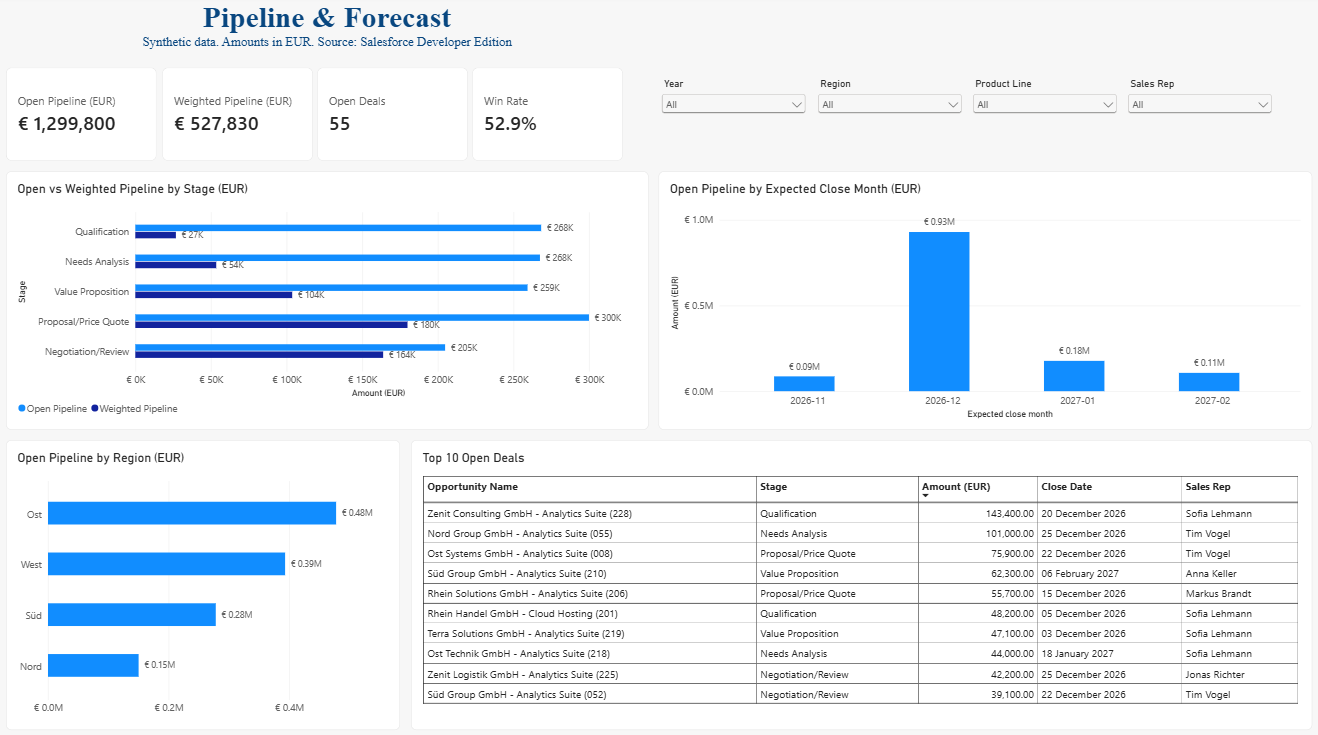

What the dashboard file says about the page in this screenshot:
{"tool":"powerbi","page":{"name":"Pipeline & Forecast","canvas":[1920,1080],"ordinal":2},"visuals":[{"type":"textbox","box":[15,8,930,85],"z":0},{"type":"slicer","fields":{"Values":["DimDate.Year"]},"box":[960,120,218,90],"z":1000},{"type":"slicer","fields":{"Values":["DimAccount.Region"]},"box":[1185,120,218,90],"z":2000},{"type":"slicer","fields":{"Values":["DimRep.Sales Rep"]},"box":[1635,120,218,90],"z":3000},{"type":"slicer","fields":{"Values":["DimProduct.Product Line"]},"box":[1410,120,218,90],"z":4000},{"type":"cardVisual","fields":{"Data":["_Measures.Open Pipeline Display"]},"box":[15,105,218,135],"z":5000},{"type":"cardVisual","fields":{"Data":["_Measures.Weighted Pipeline Display"]},"box":[240,105,218,135],"z":6000},{"type":"cardVisual","fields":{"Data":["_Measures.Open Deal Count"]},"box":[465,105,218,135],"z":7000},{"type":"cardVisual","fields":{"Data":["_Measures.Win Rate"]},"box":[690,105,218,135],"z":8000},{"type":"clusteredBarChart","title":"Open vs Weighted Pipeline by Stage (EUR)","fields":{"Category":["DimStage.Stage"],"Y":["_Measures.Open Pipeline","_Measures.Weighted Pipeline"]},"box":[14.5,255.2,930.2,374.6],"z":9000},{"type":"clusteredColumnChart","title":"Open Pipeline by Expected Close Month (EUR)","fields":{"Category":["DimDate.YearMonth"],"Y":["_Measures.Open Pipeline"]},"box":[959.1,255.2,946.5,374.6],"z":10000},{"type":"clusteredBarChart","title":"Open Pipeline by Region (EUR)","fields":{"Category":["DimAccount.Region"],"Y":["_Measures.Open Pipeline"]},"box":[14.5,644.2,570,419.8],"z":11000},{"type":"tableEx","title":"Top 10 Open Deals","fields":{"Values":["Opportunities.Opportunity Name","Opportunities.Stage","Sum(Opportunities.Amount)","Opportunities.Close Date","Opportunities.Sales Rep"]},"box":[600.8,644.2,1304.8,419.8],"z":12000}]}

Visuals, with their boxes in screenshot pixels (x1, y1, x2, y2), scaled from the page's 1920x1080 canvas onto the 1318x735 screenshot:
textbox: 10 5 649 63
slicer - DimDate.Year: 659 82 809 143
slicer - DimAccount.Region: 813 82 963 143
slicer - DimRep.Sales Rep: 1122 82 1272 143
slicer - DimProduct.Product Line: 968 82 1118 143
cardVisual - _Measures.Open Pipeline Display: 10 71 160 163
cardVisual - _Measures.Weighted Pipeline Display: 165 71 314 163
cardVisual - _Measures.Open Deal Count: 319 71 469 163
cardVisual - _Measures.Win Rate: 474 71 623 163
"Open vs Weighted Pipeline by Stage (EUR)" clusteredBarChart: 10 174 648 429
"Open Pipeline by Expected Close Month (EUR)" clusteredColumnChart: 658 174 1308 429
"Open Pipeline by Region (EUR)" clusteredBarChart: 10 438 401 724
"Top 10 Open Deals" tableEx: 412 438 1308 724
